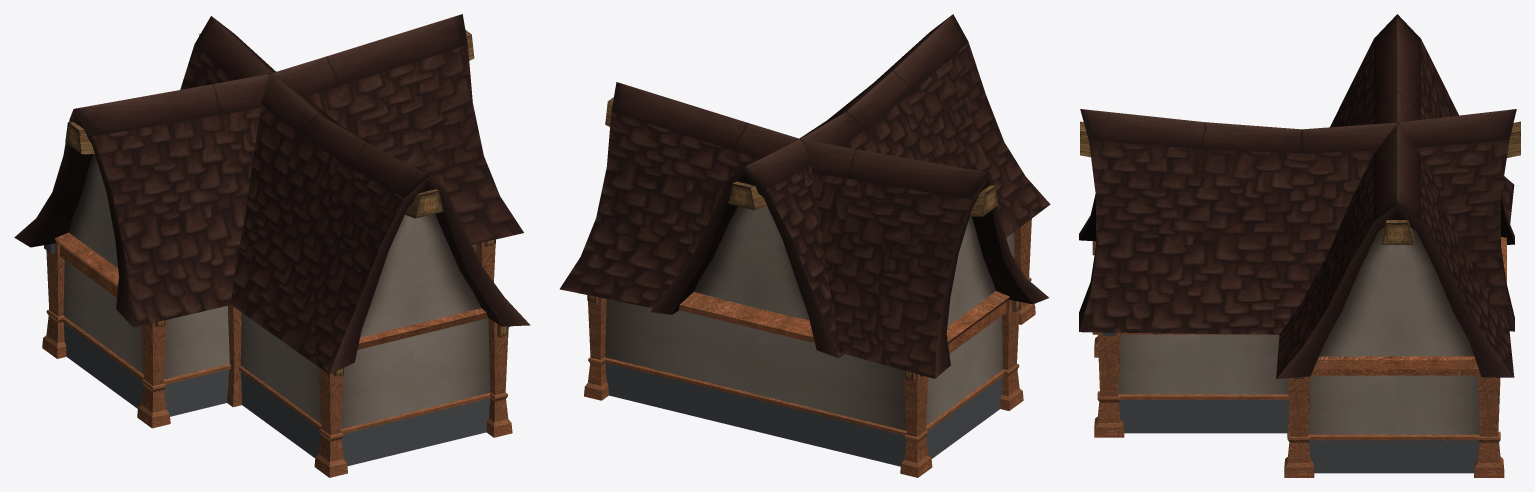
File: fanasty_mod_T_house.fbx
3 views of the same model, side by side, from view 1: azimuth 30°, elevation 25°; view 2: azimuth 150°, elevation 25°; view 3: azimuth 270°, elevation 25° (orthographic). The views are drawn at different scales.
Parts seen in each view (by area): view 1: T_house; view 2: T_house; view 3: T_house.
Boxes of the visible parts, x1,y1,x2,y2 form: T_house: (14, 14, 530, 477); T_house: (560, 14, 1050, 477); T_house: (1079, 14, 1520, 477).
Bounding box in the file's own units: 12.96 × 8.97 × 12.6.
